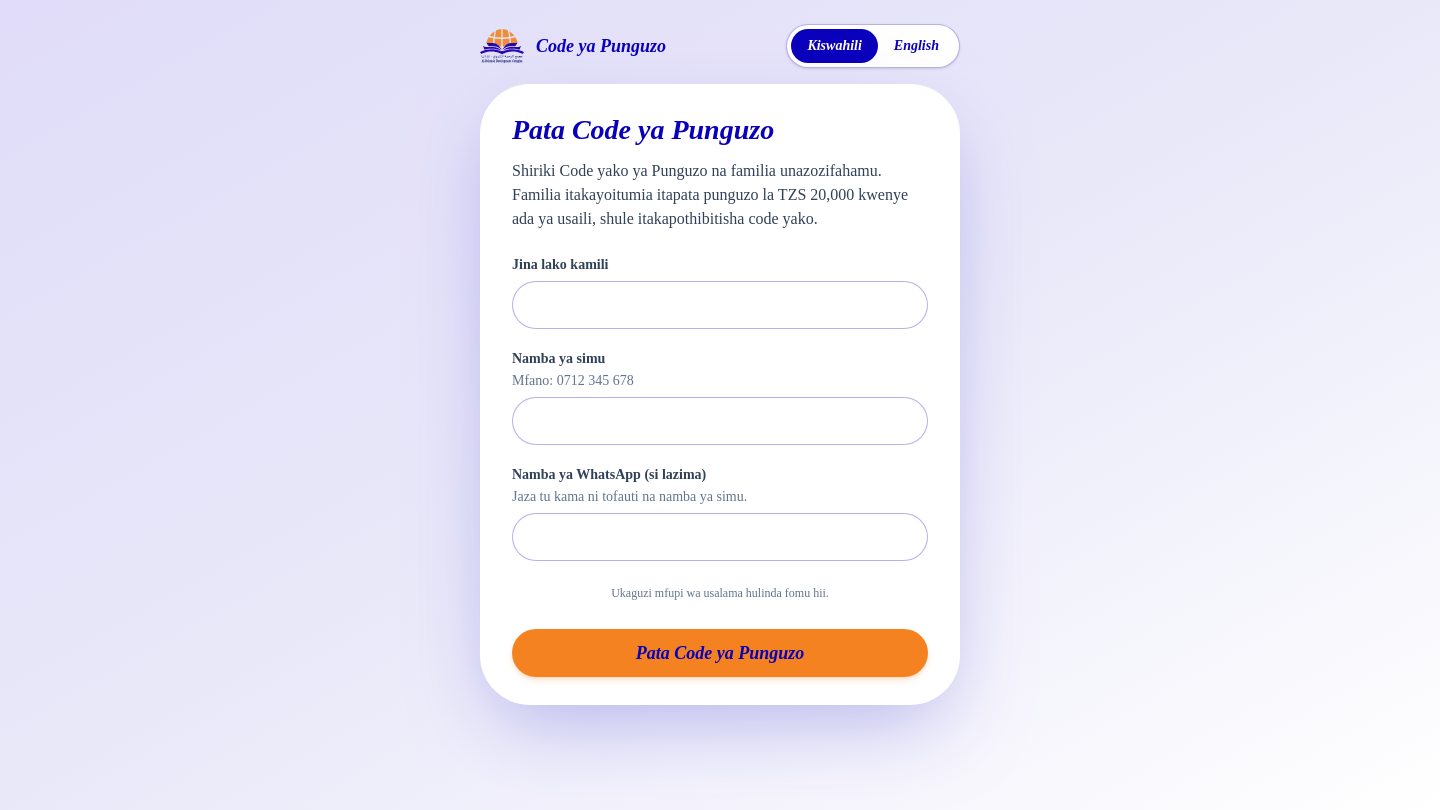
Test case: the Discount code page › Copy puts the link on the clipboard and says so
Type "Rehema Juma" into the field labelled "Jina lako kamili" at (720, 305), box [512,281,928,329]
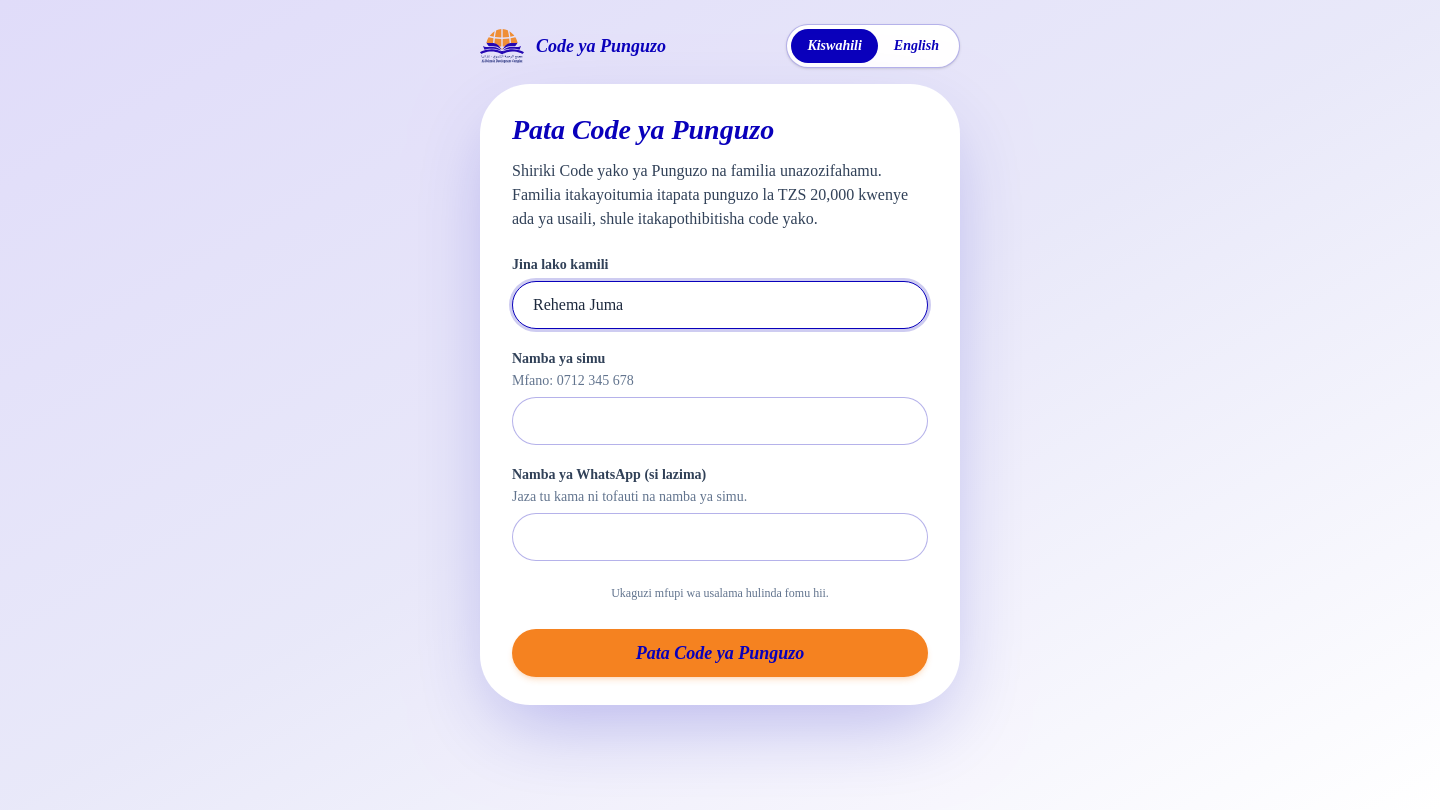
Type "0712 345 678" into the field labelled "Namba ya simu" at (720, 421), box [512,397,928,445]
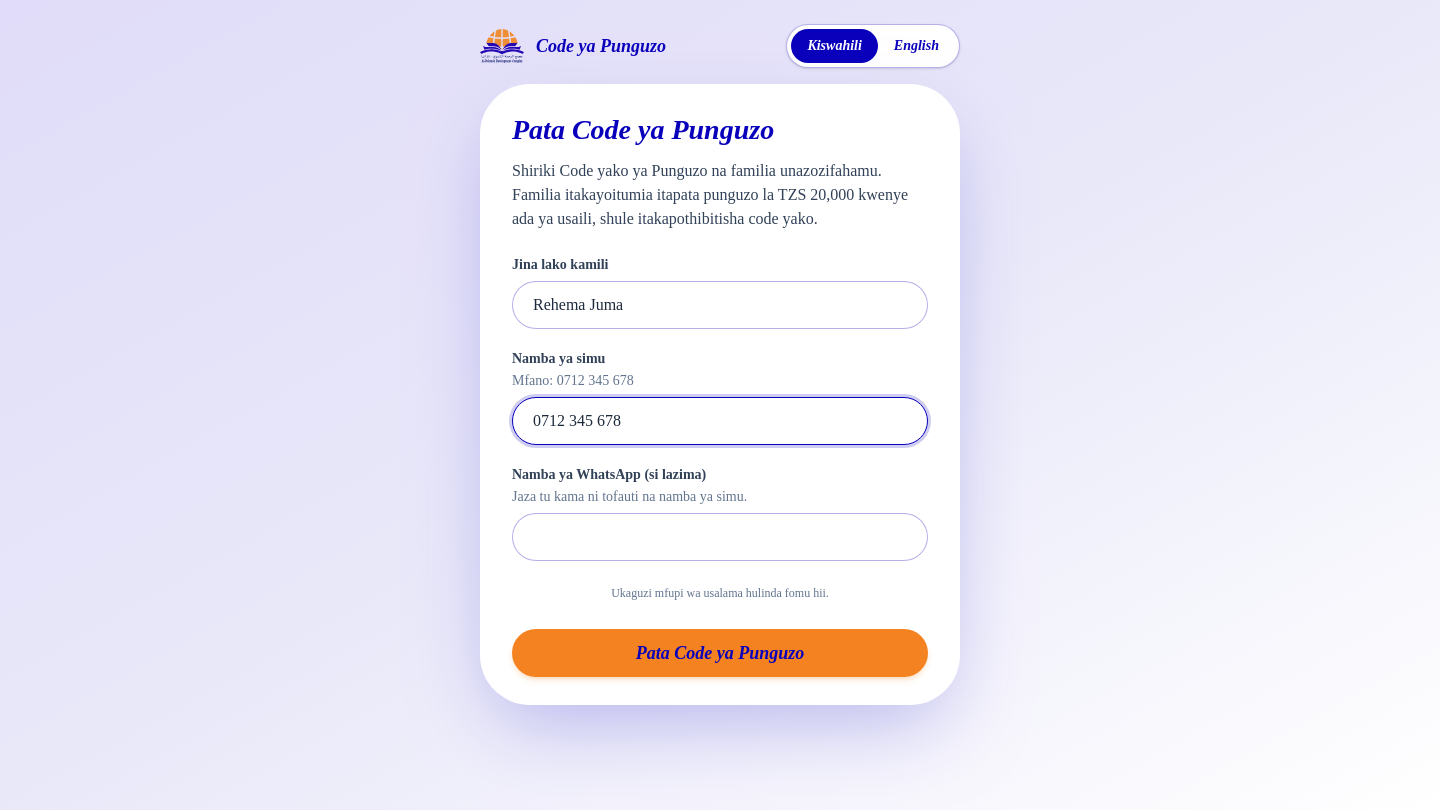
Click the button "Pata Code ya Punguzo" at (720, 653), box [512,629,928,677]
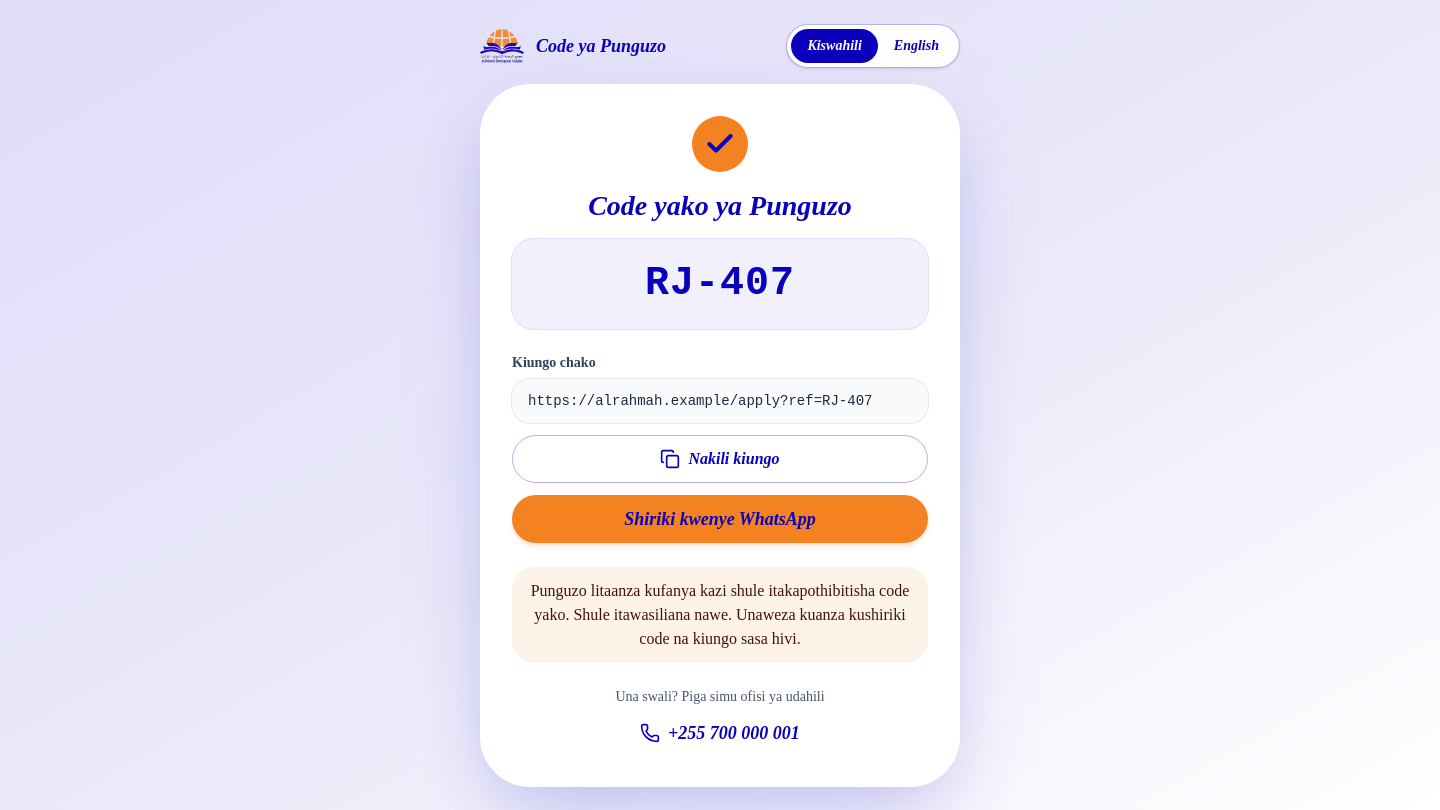
Click the button "Nakili kiungo" at (720, 459), box [512,435,928,483]
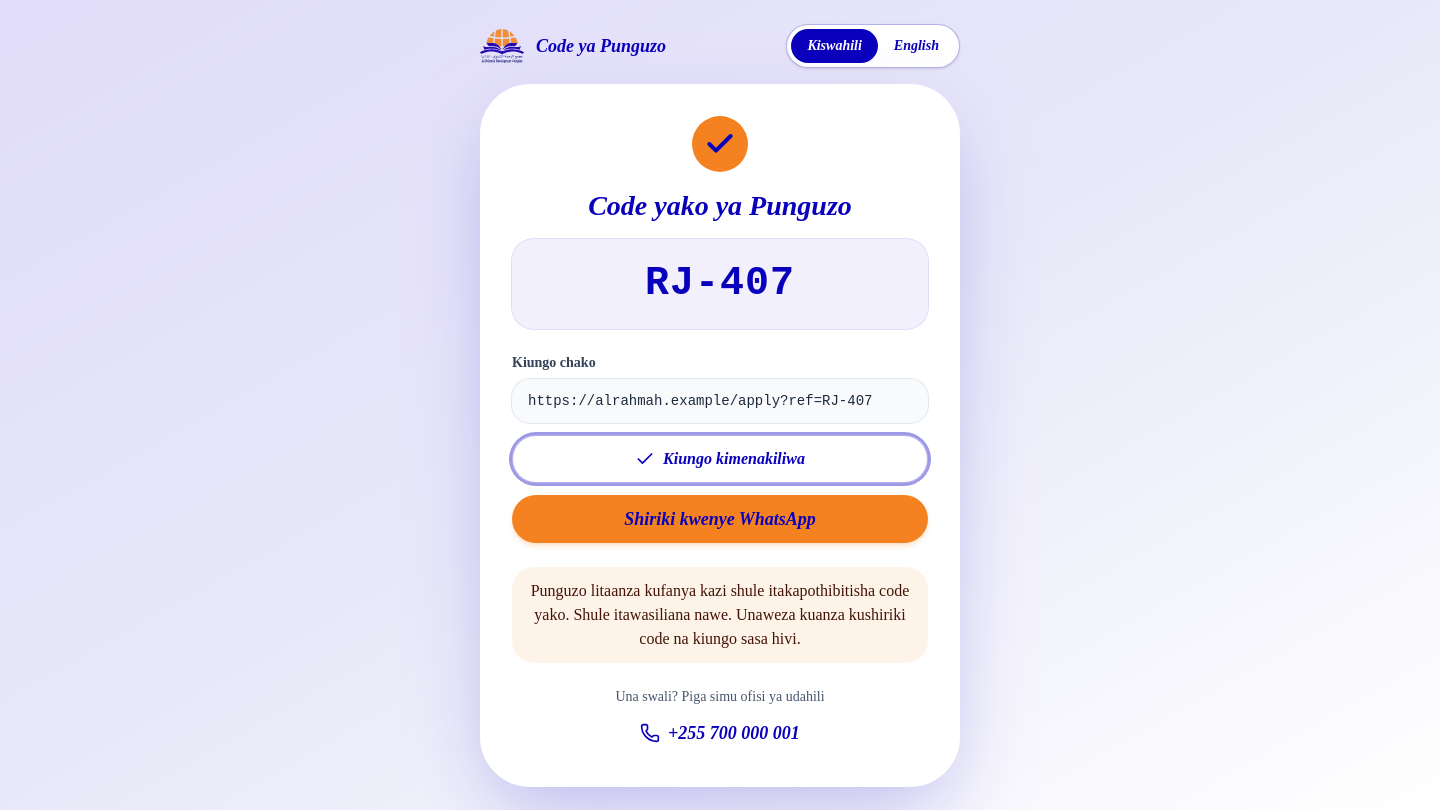
Now the button "Kiungo kimenakiliwa" is shown, box [512,435,928,483]
